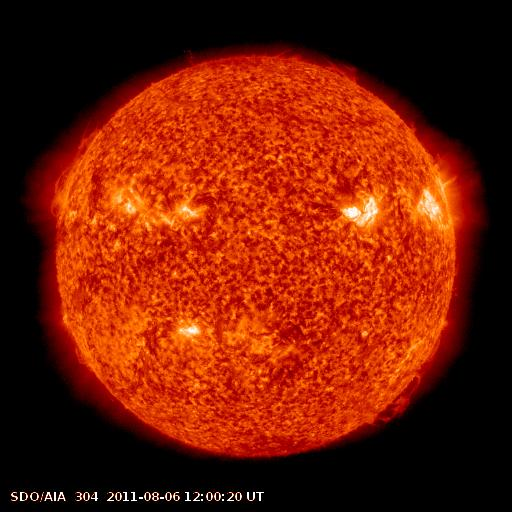prominence: (365, 338, 439, 428), (46, 125, 106, 224), (291, 49, 359, 82), (67, 343, 99, 375)
